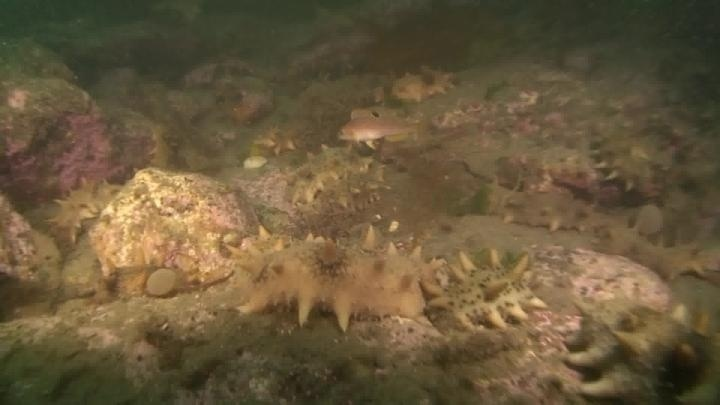holothurian: (227, 227, 440, 335), (564, 289, 718, 402), (419, 248, 544, 338), (590, 222, 719, 285), (473, 179, 608, 238), (239, 227, 364, 287), (281, 142, 387, 211), (45, 173, 122, 248), (588, 131, 663, 203), (387, 63, 461, 107), (144, 120, 181, 175)
